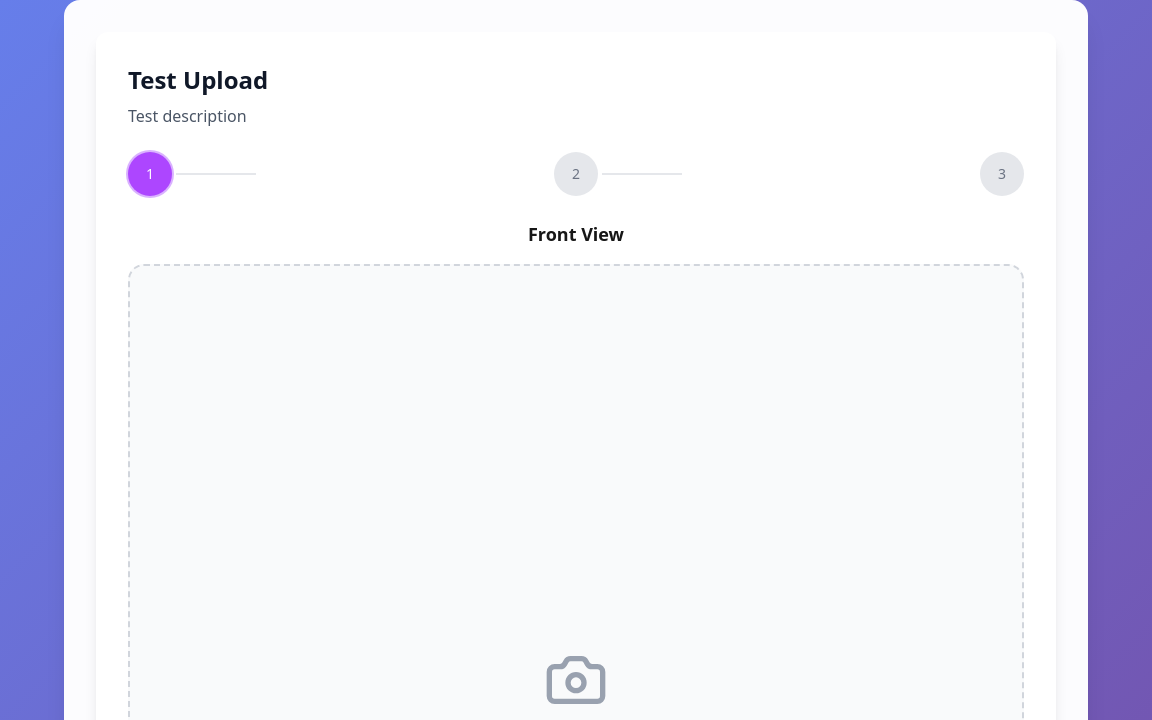
Test: MobilePhotoUpload › should allow navigation between views
Expected: the heading "front View" is shown, [528, 222, 624, 246]
// Click on step 2 indicator to navigate to side view
What coordinates should you click on to do the following:
click the button named "Step 2: side view"
I would click on:
 (576, 174)
Its box is [554, 152, 598, 196].
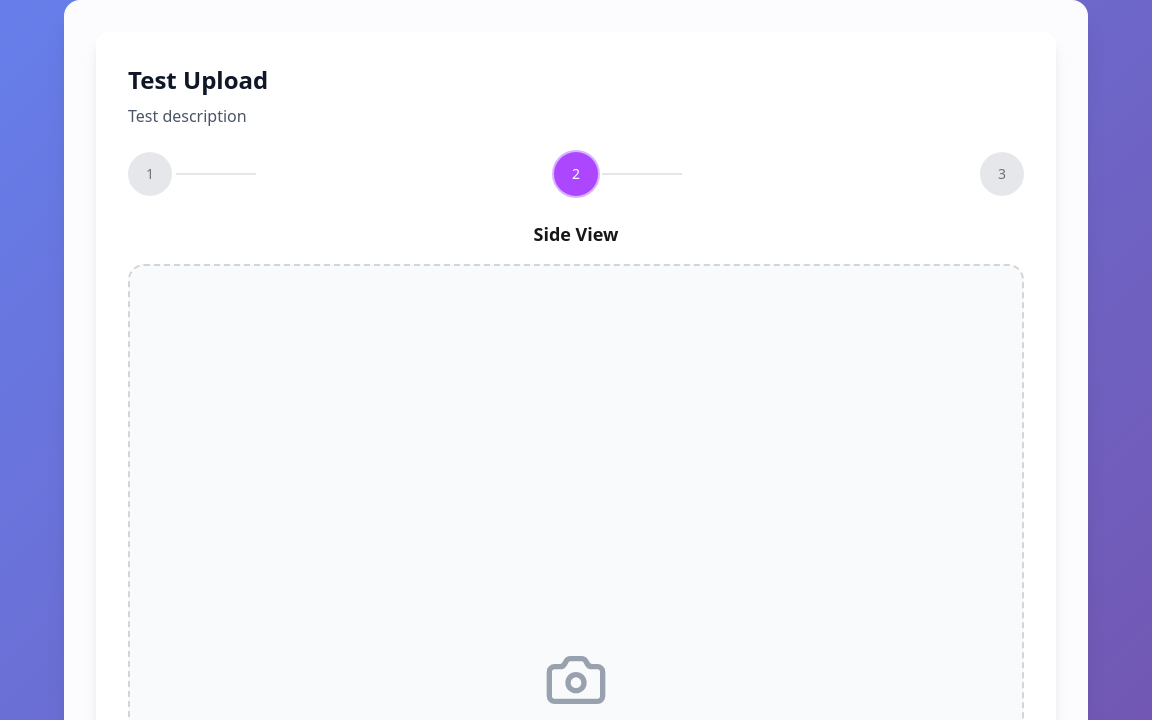
Now the heading "side View" is shown, box [534, 222, 618, 246]
